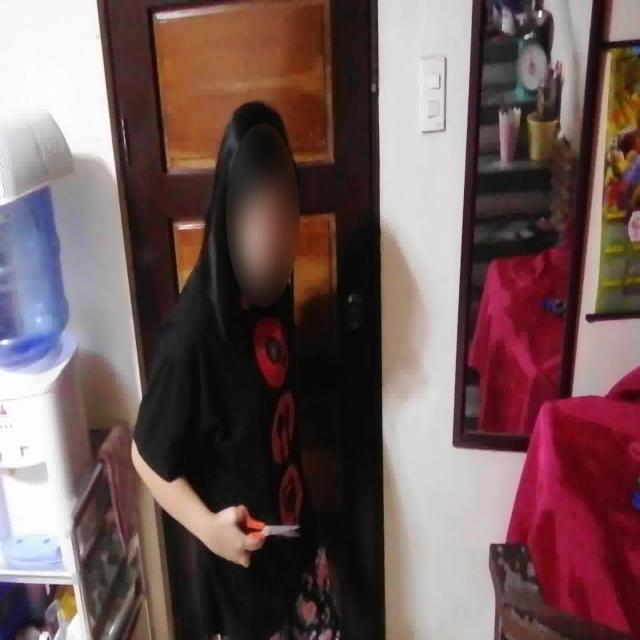scissor: (235, 505, 302, 552)
